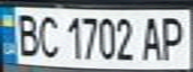0: (97, 14, 118, 61)
1: (60, 12, 81, 60)
2: (115, 14, 139, 62)
7: (78, 14, 100, 61)
A: (139, 14, 166, 62)
B: (12, 10, 42, 58)
C: (36, 11, 60, 58)
P: (157, 12, 190, 62)
